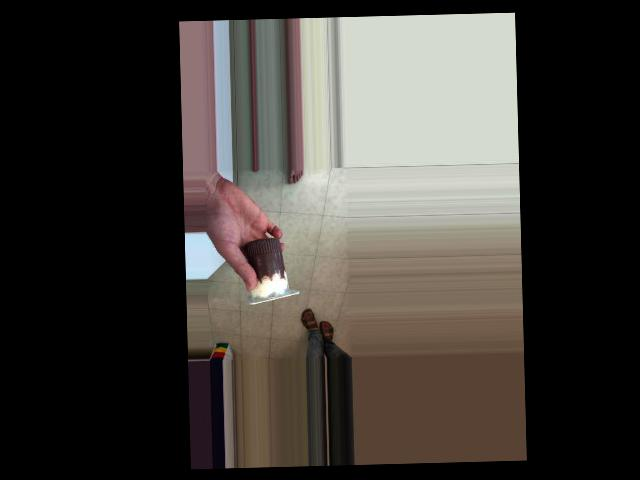milky: (242, 219, 289, 303)
